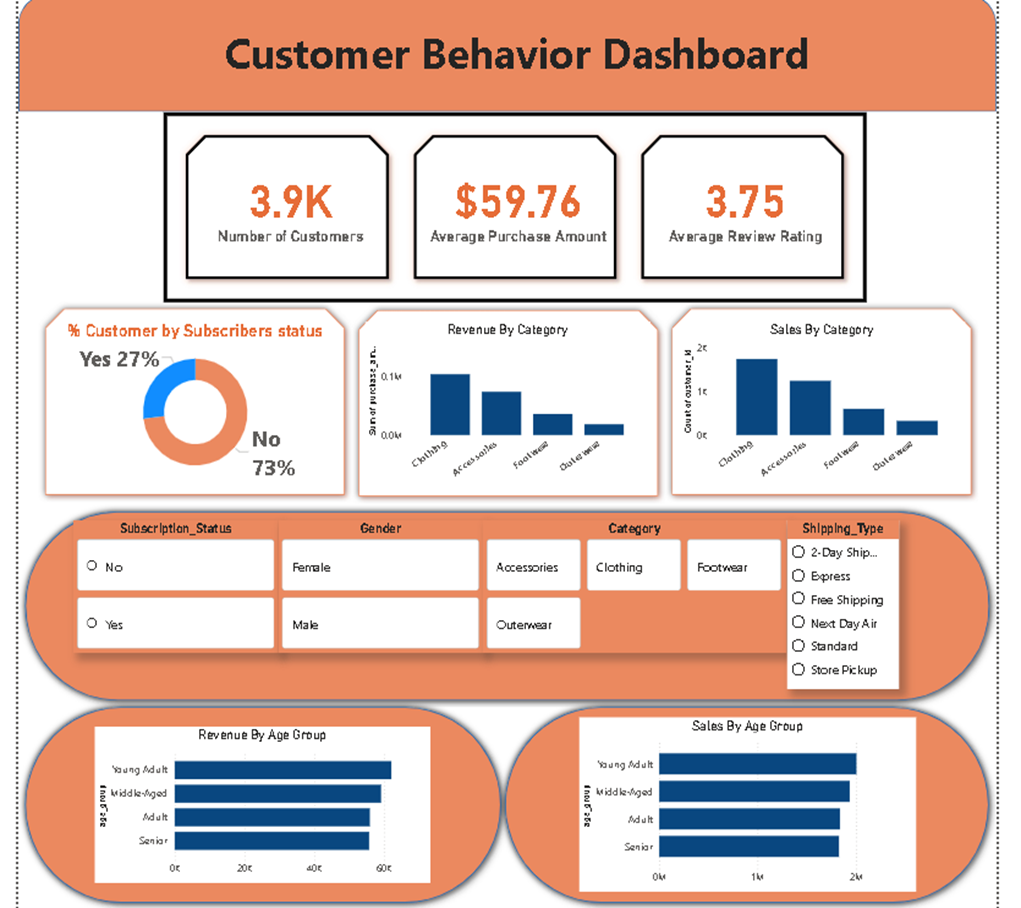

The dashboard page shown, as its layout file describes it:
{"tool":"powerbi","page":{"name":"Page 1","canvas":[1280,1500],"ordinal":0},"visuals":[{"type":"shape","box":[0,901.4,640.6,268.1],"z":0},{"type":"cardVisual","fields":{"Data":["CustomerShopping.Number of Customers","CustomerShopping.Average Purchase Amount","CustomerShopping.Average Review Rating"]},"box":[189.9,149.3,920.3,243.5],"z":1000},{"type":"shape","box":[0,0,1279.7,149.3],"z":2000},{"type":"textbox","box":[26.1,31.9,1253.6,117.4],"z":3000},{"type":"shape","box":[26.1,392.8,410.1,256.5],"z":4000},{"type":"donutChart","title":"% Customer by Subscribers status ","fields":{"Category":["CustomerShopping.subscription_status"],"Y":["CountNonNull(CustomerShopping.customer_id)"]},"box":[52.2,415.9,359.4,211.6],"z":5000},{"type":"shape","box":[436.2,394.2,410.1,256.5],"z":6000},{"type":"shape","box":[846.4,392.8,410.1,256.5],"z":7000},{"type":"clusteredColumnChart","title":"Revenue By Category","fields":{"Category":["CustomerShopping.category"],"Y":["Sum(CustomerShopping.purchase_amount)"]},"box":[453.6,417.4,372.5,210.1],"z":8000},{"type":"clusteredColumnChart","title":"Sales By Category","fields":{"Category":["CustomerShopping.category"],"Y":["CountNonNull(CustomerShopping.customer_id)"]},"box":[865.2,417.4,372.5,210.1],"z":9000},{"type":"shape","box":[0,652.2,1279.7,259.4],"z":10000},{"type":"advancedSlicerVisual","fields":{"Values":["CustomerShopping.subscription_status"]},"box":[72.5,671,268.1,169.6],"z":11000},{"type":"advancedSlicerVisual","fields":{"Values":["CustomerShopping.gender"]},"box":[340.6,671,268.1,169.6],"z":12000},{"type":"advancedSlicerVisual","fields":{"Values":["CustomerShopping.category"]},"box":[608.7,671,397.1,169.6],"z":13000},{"type":"listSlicer","fields":{"Values":["CustomerShopping.shipping_type"]},"box":[1005.8,671,146.4,215.9],"z":14000},{"type":"clusteredBarChart","title":"Revenue By Age Group","fields":{"Y":["Sum(CustomerShopping.purchase_amount)"],"Category":["CustomerShopping.age_group"]},"box":[100,936.2,439.1,200],"z":15000},{"type":"shape","box":[629,901.4,650.7,268.1],"z":16000},{"type":"clusteredBarChart","title":"Sales By Age Group","fields":{"Y":["Sum(CustomerShopping.customer_id)"],"Category":["CustomerShopping.age_group"]},"box":[734.8,924.6,440.6,223.2],"z":17000}]}

Visuals, with their boxes on the page's 1280x1500 design canvas (x1, y1, x2, y2). These are canvas units, not pixel positions in the 1021x908 screenshot, which may show the page scaled, cropped or inside an application window:
shape: bbox(0, 901, 641, 1170)
cardVisual - CustomerShopping.Number of Customers x CustomerShopping.Average Purchase Amount: bbox(190, 149, 1110, 393)
shape: bbox(0, 0, 1280, 149)
textbox: bbox(26, 32, 1280, 149)
shape: bbox(26, 393, 436, 649)
"% Customer by Subscribers status " donutChart: bbox(52, 416, 412, 628)
shape: bbox(436, 394, 846, 651)
shape: bbox(846, 393, 1256, 649)
"Revenue By Category" clusteredColumnChart: bbox(454, 417, 826, 628)
"Sales By Category" clusteredColumnChart: bbox(865, 417, 1238, 628)
shape: bbox(0, 652, 1280, 912)
advancedSlicerVisual - CustomerShopping.subscription_status: bbox(72, 671, 341, 841)
advancedSlicerVisual - CustomerShopping.gender: bbox(341, 671, 609, 841)
advancedSlicerVisual - CustomerShopping.category: bbox(609, 671, 1006, 841)
listSlicer - CustomerShopping.shipping_type: bbox(1006, 671, 1152, 887)
"Revenue By Age Group" clusteredBarChart: bbox(100, 936, 539, 1136)
shape: bbox(629, 901, 1280, 1170)
"Sales By Age Group" clusteredBarChart: bbox(735, 925, 1175, 1148)
